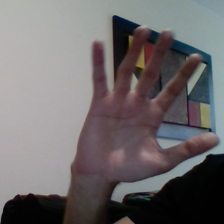left: (66, 21, 224, 193)
